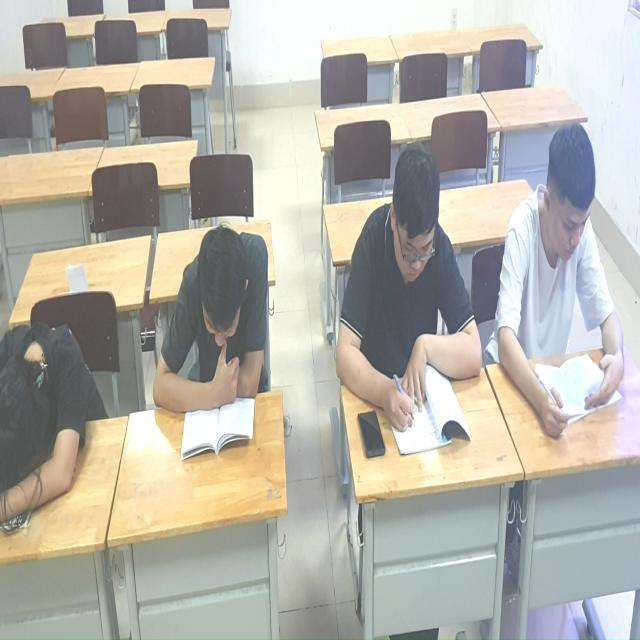read: (335, 140, 491, 468), (499, 112, 640, 451), (151, 205, 274, 472)
sleep: (1, 295, 101, 524)
